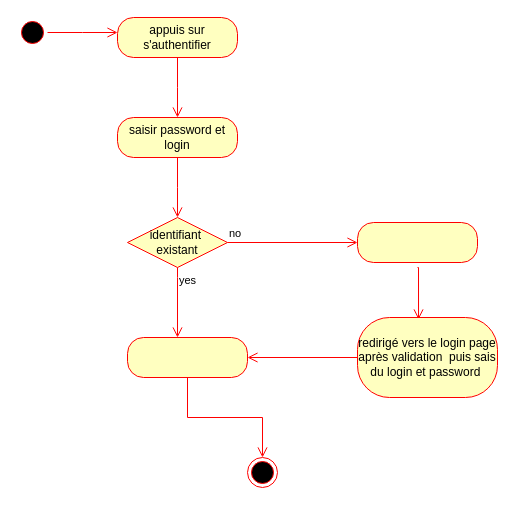
Some shapes in this 515 by 505 pixel diagram are drawn without their labels. Here are the shapes that lost their labels. From the top down, the centre of each, then its label:
point (417, 242): redirigé vers la page d'enregistrement
point (187, 357): affiche la page d'accueil
